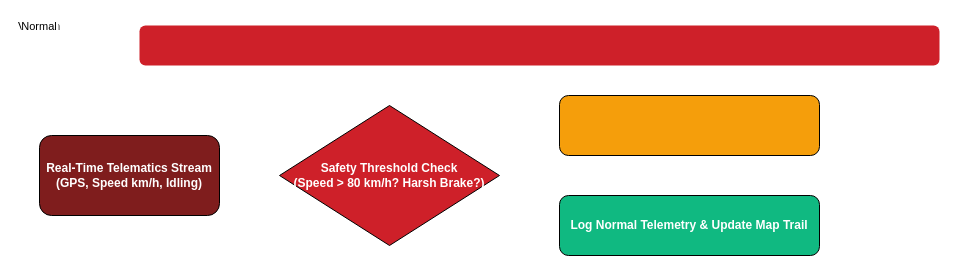
Image size: 956x273. Some labels were removed from this diagram. The shapes that lost their labels are listed below. From the top down, each one's centre as x and y in pixels, then its label:
(x=539, y=45): FIGURE 8: TELEMETRY MONITORING & DISPATCHER ALERTING ARCHITECTURE
(x=689, y=125): Trigger Dispatcher Speed Alert & Deduct Driver Score
